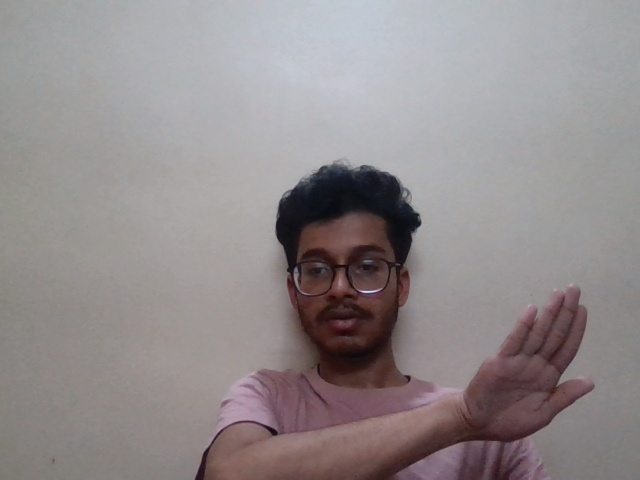hello: (472, 279, 613, 460)
